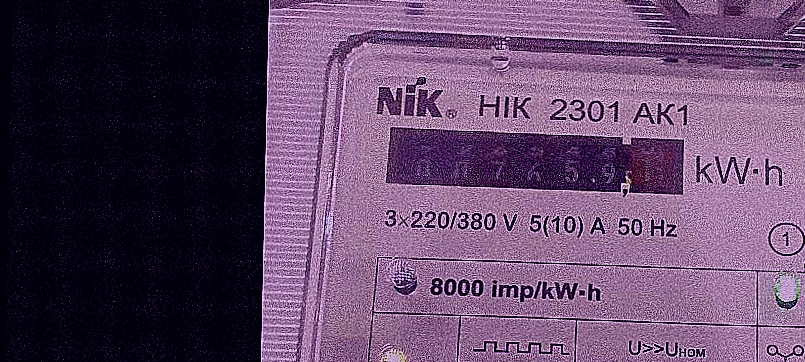0: (413, 154, 432, 181), (451, 156, 471, 181)
1: (640, 153, 655, 185)
5: (560, 156, 583, 184)
6: (524, 159, 544, 183)
7: (487, 158, 508, 183)
9: (598, 159, 617, 187)
screen: (376, 114, 696, 211)
